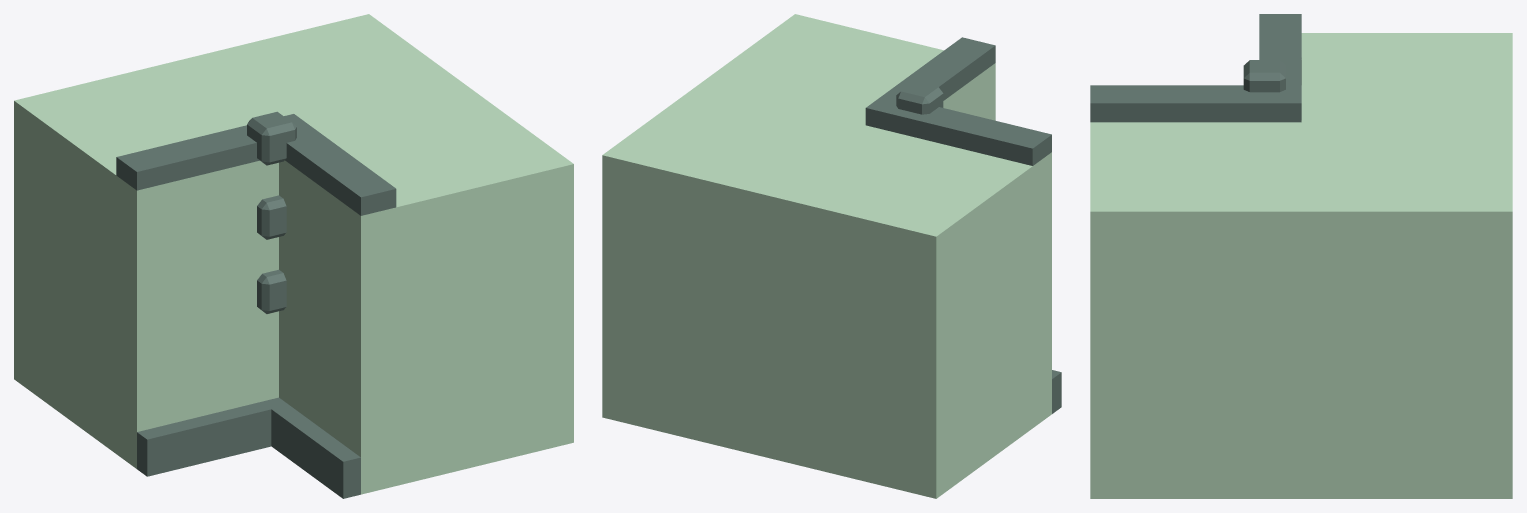
Rendered from GroundConvex.fbx.
3 renders of one model, left to right at view 1: azimuth 30°, elevation 25°; view 2: azimuth 150°, elevation 25°; view 3: azimuth 270°, elevation 25°, orthographic. The views are drawn at different scales.
Visible parts, largest first — view 1: GroundConvex; view 2: GroundConvex; view 3: GroundConvex.
Boxes of the visible parts, x1,y1,x2,y2 form: GroundConvex: (14,14,573,498); GroundConvex: (602,14,1061,498); GroundConvex: (1090,14,1512,498).
Bounding box in the file's own units: 2 × 1.69 × 2.
